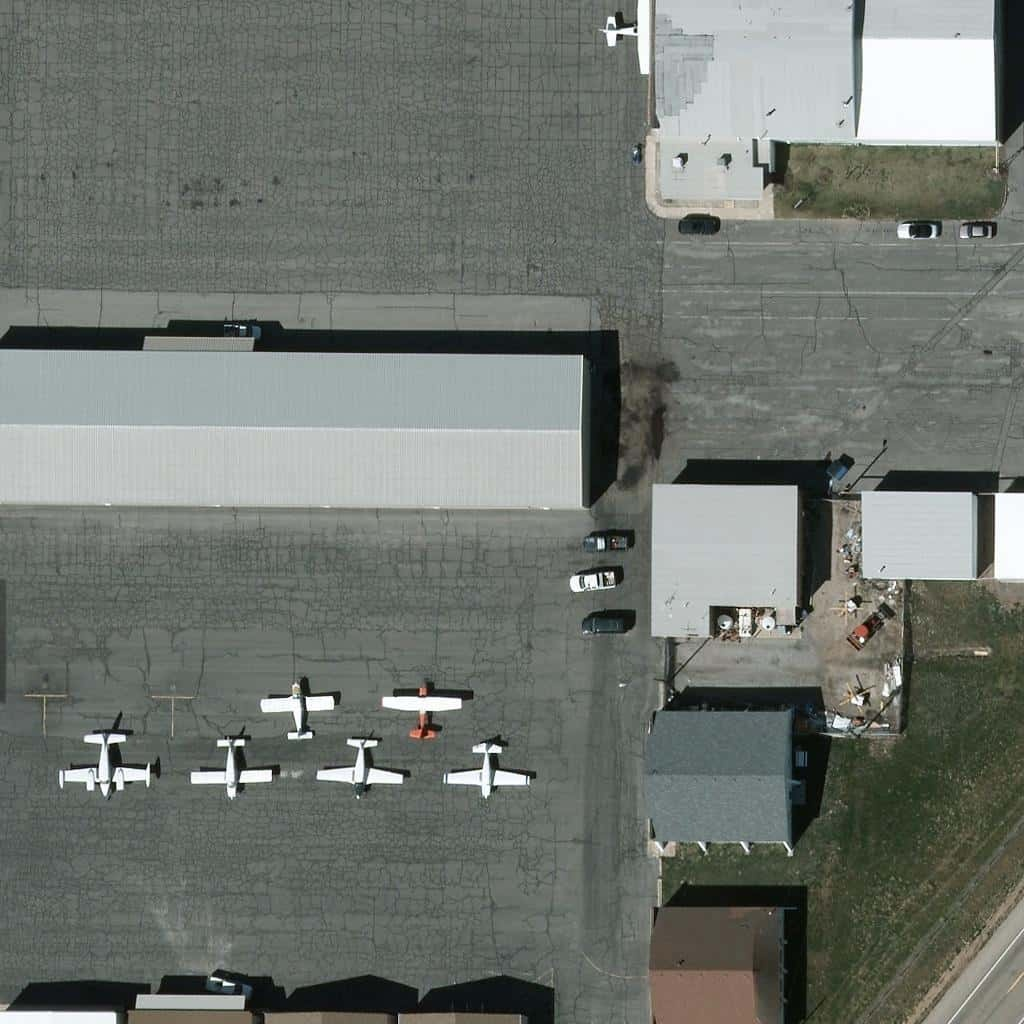plane: (56, 723, 155, 798), (181, 729, 280, 804), (312, 736, 410, 806), (375, 674, 473, 744), (436, 735, 534, 805), (259, 673, 338, 744), (599, 2, 652, 73)
